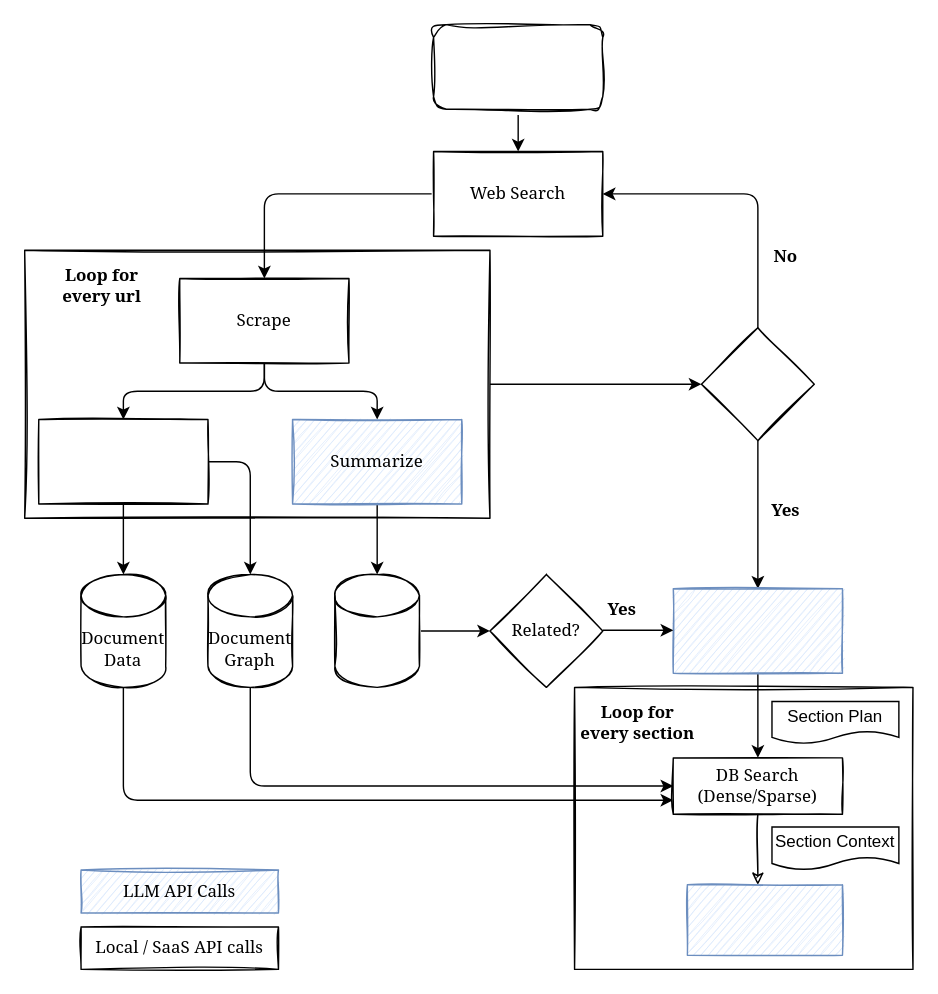
Some shapes in this 938 by 994 pixel diagram are drawn without their labels. The centre of each missing label's shape, as x and y in pixels:
"Convert /Split /Embed" belongs at [122,461].
"Enough ?" belongs at [757,383].
"Query (rewrite)" belongs at [517,66].
"Section Generation" belongs at [764,919].
"Section Planning" belongs at [757,630].
"Summary metadata" belongs at [376,630].
